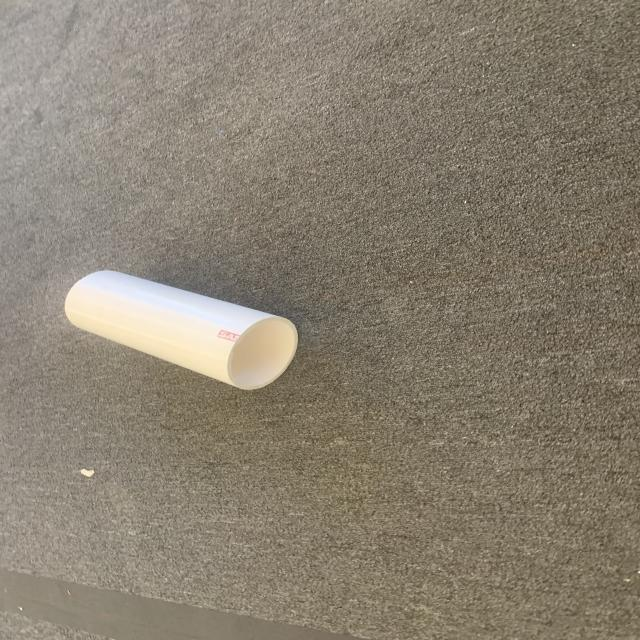Coral: (63, 268, 299, 392)
